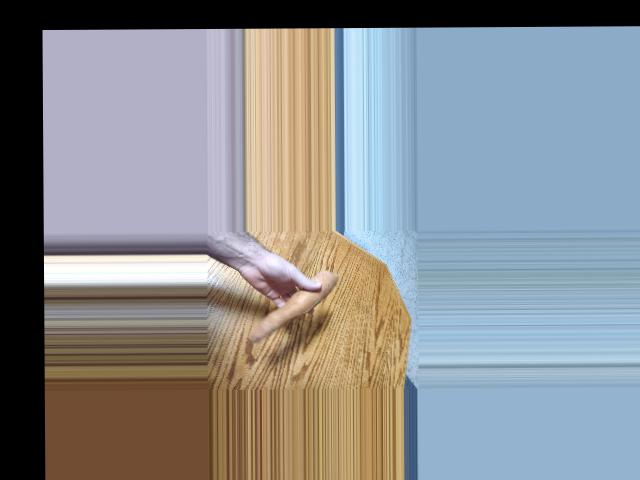sweet_potato: (249, 268, 330, 339)
